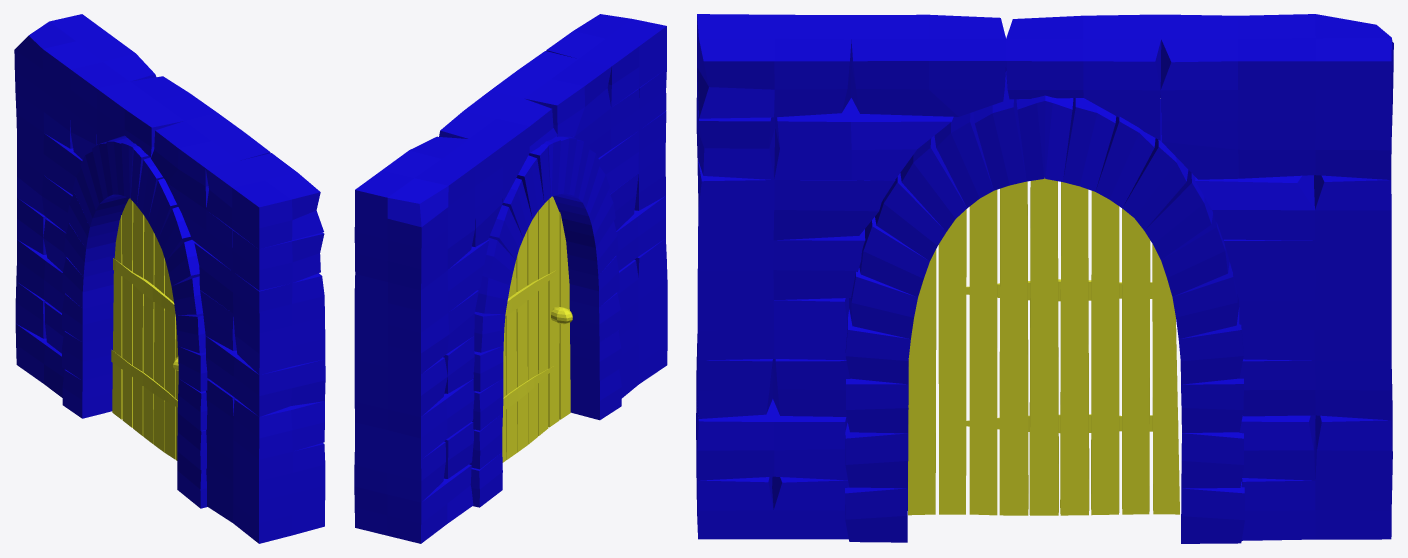
Rendered from Low-Door-2.fbx.
3 renders of one model, left to right at view 1: azimuth 30°, elevation 25°; view 2: azimuth 150°, elevation 25°; view 3: azimuth 270°, elevation 25°, orthographic. The views are drawn at different scales.
Parts seen in each view (by area): view 1: Low-Door-2-wall, Low-Door-2; view 2: Low-Door-2-wall, Low-Door-2; view 3: Low-Door-2-wall, Low-Door-2.
Part boxes in pixels (left/top/right/bottom): Low-Door-2-wall: left=14, top=14, right=325, bottom=543; Low-Door-2: left=111, top=198, right=178, bottom=460; Low-Door-2-wall: left=354, top=14, right=667, bottom=543; Low-Door-2: left=502, top=196, right=572, bottom=462; Low-Door-2-wall: left=696, top=14, right=1393, bottom=543; Low-Door-2: left=908, top=177, right=1179, bottom=515.
Bounding box in the file's own units: 61.22 × 241 × 316.
